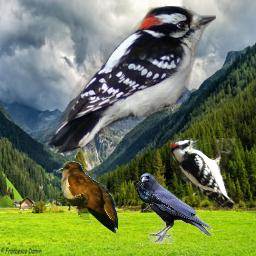Crow: (139, 173, 213, 244), (132, 180, 174, 213)
Cuckoo: (56, 161, 118, 235)
Woodpecker: (42, 6, 216, 153), (170, 138, 235, 209)
